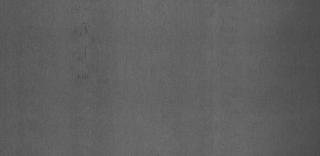silk spot: (68, 22, 108, 86)
